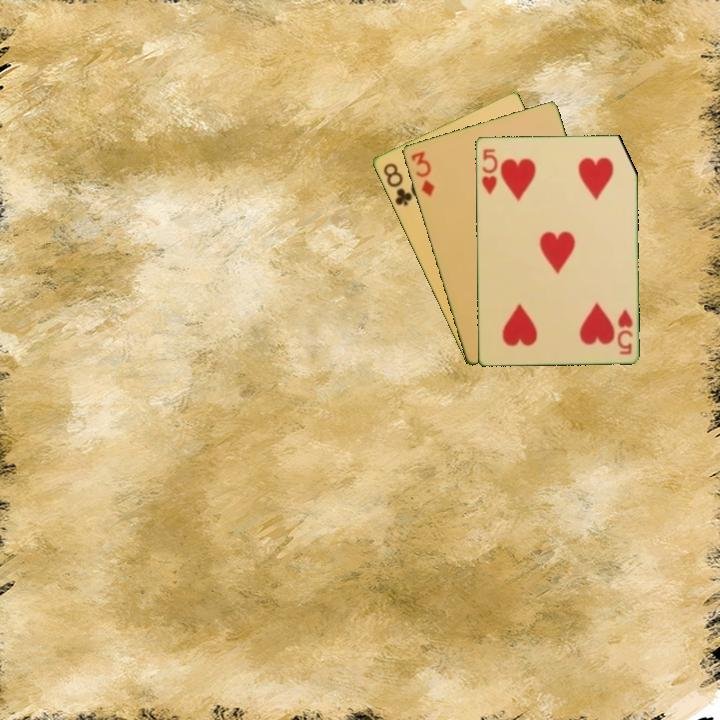3d: (407, 148, 437, 199)
5h: (478, 145, 500, 197), (614, 306, 635, 357)
8c: (379, 159, 415, 209)
